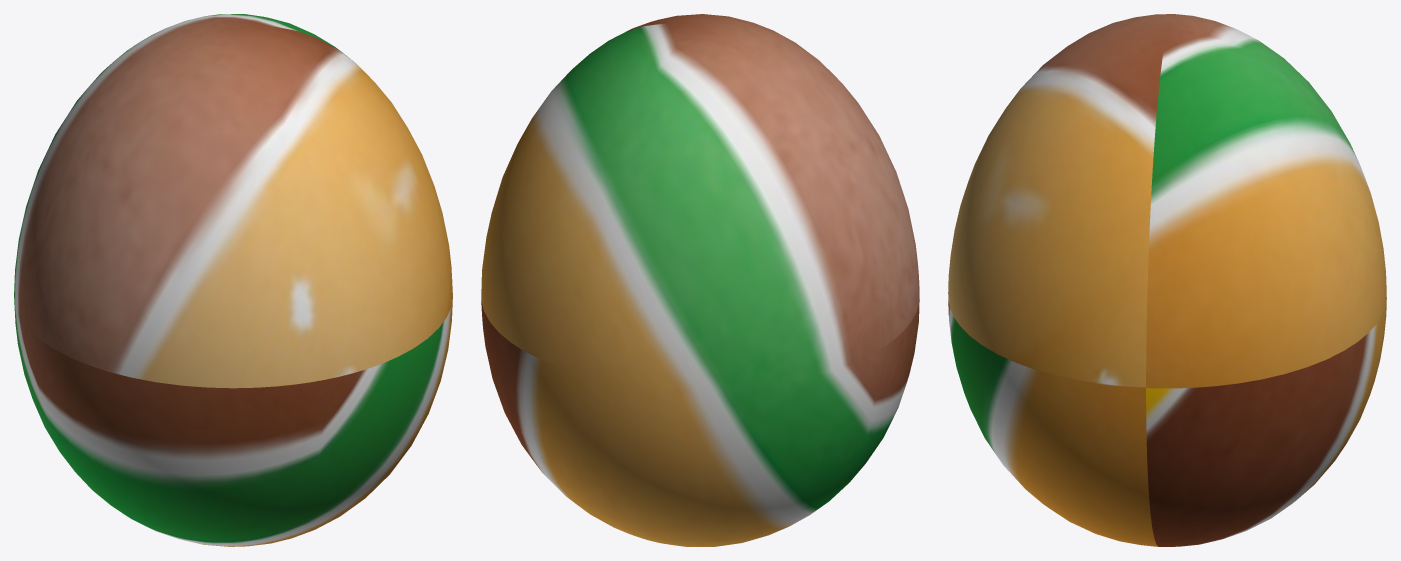
The model's file is mcdonalds_easter_demo_bigmac.gltf.
3 renders of one model, left to right at view 1: azimuth 30°, elevation 25°; view 2: azimuth 150°, elevation 25°; view 3: azimuth 270°, elevation 25°, orthographic.
Parts seen in each view (by area): view 1: big_mac; view 2: big_mac; view 3: big_mac.
Boxes of the visible parts, <box> form: big_mac: <box>14,14,452,546</box>; big_mac: <box>481,14,919,546</box>; big_mac: <box>948,14,1386,546</box>.
Bounding box in the file's own units: 184 × 231 × 184.
Materials: 1 (1 with a texture image).
